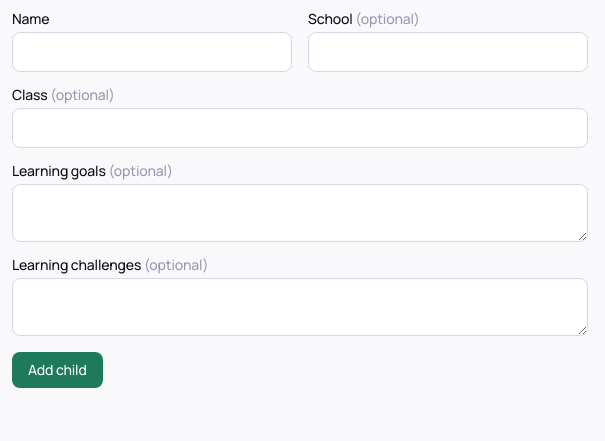
AddStudentForm (create mode) › shows an error message when addStudent fails
The width and height of the screenshot is (605, 441).
In the field labelled "Name": (152, 52) [12, 32, 292, 72], type "Chidinma"
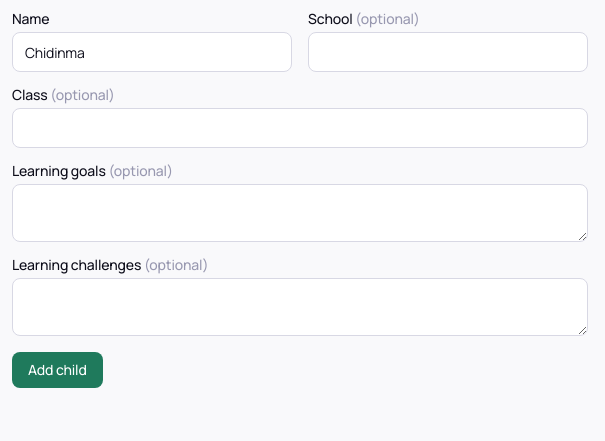
Click the button "Add child": (57, 370) [12, 352, 103, 388]
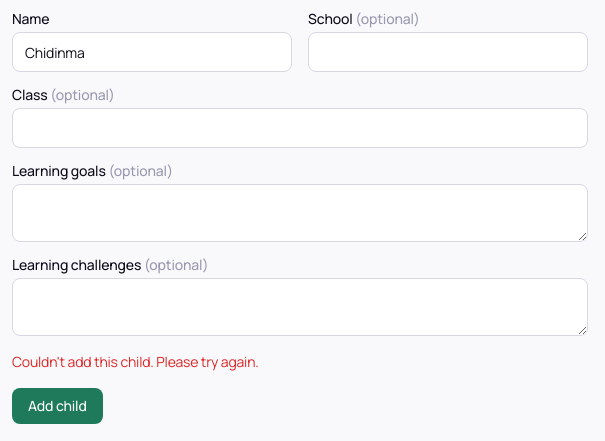
Check: the message shows "Couldn't add", box [12, 352, 259, 371]
